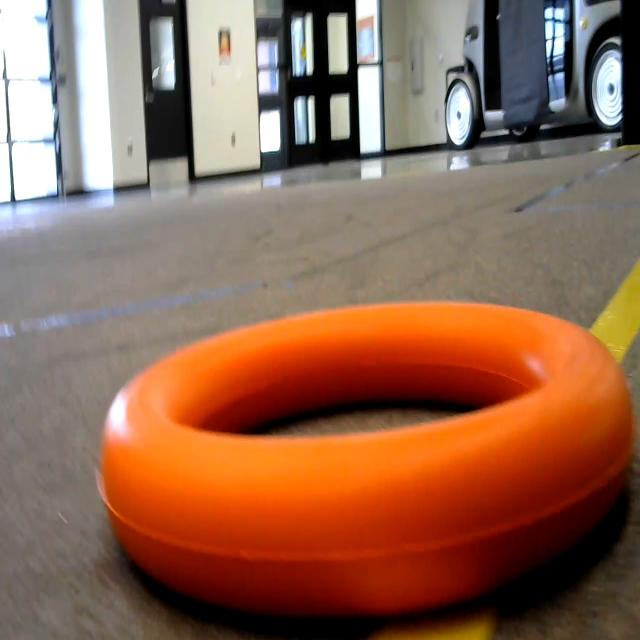note: (84, 309, 640, 627)
